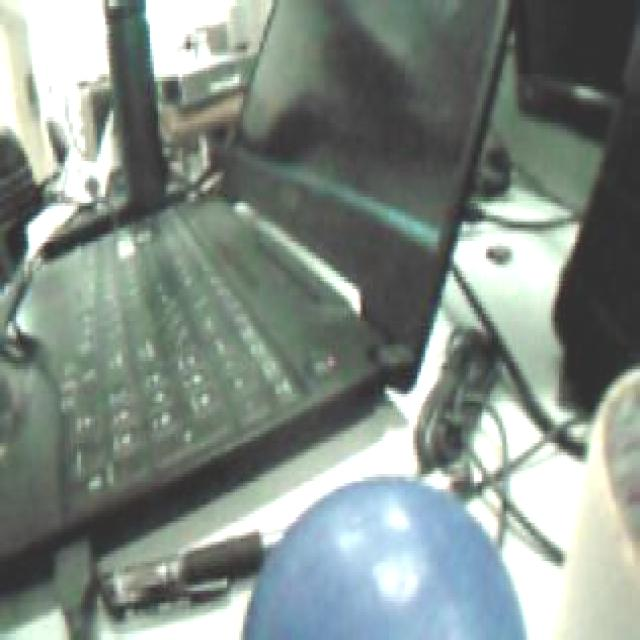BallPurple: (243, 474, 525, 640)
